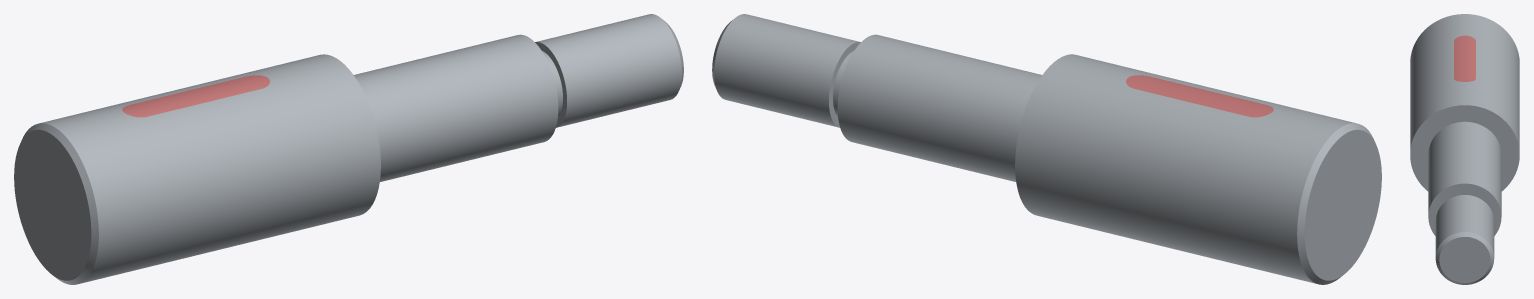
The model's file is step_05.glb.
3 renders of one model, left to right at view 1: azimuth 30°, elevation 25°; view 2: azimuth 150°, elevation 25°; view 3: azimuth 270°, elevation 25°, orthographic. The views are drawn at different scales.
Visible parts, largest first — view 1: part__threaded shaft, removed__threaded shaft; view 2: part__threaded shaft, removed__threaded shaft; view 3: part__threaded shaft, removed__threaded shaft.
Part boxes in pixels (bbox=[...]): part__threaded shaft: bbox=[14, 14, 683, 284]; removed__threaded shaft: bbox=[122, 75, 269, 117]; part__threaded shaft: bbox=[712, 14, 1381, 284]; removed__threaded shaft: bbox=[1126, 75, 1273, 117]; part__threaded shaft: bbox=[1410, 14, 1519, 284]; removed__threaded shaft: bbox=[1454, 35, 1475, 81].
Bounding box in the file's own units: 128 × 30 × 29.98.
